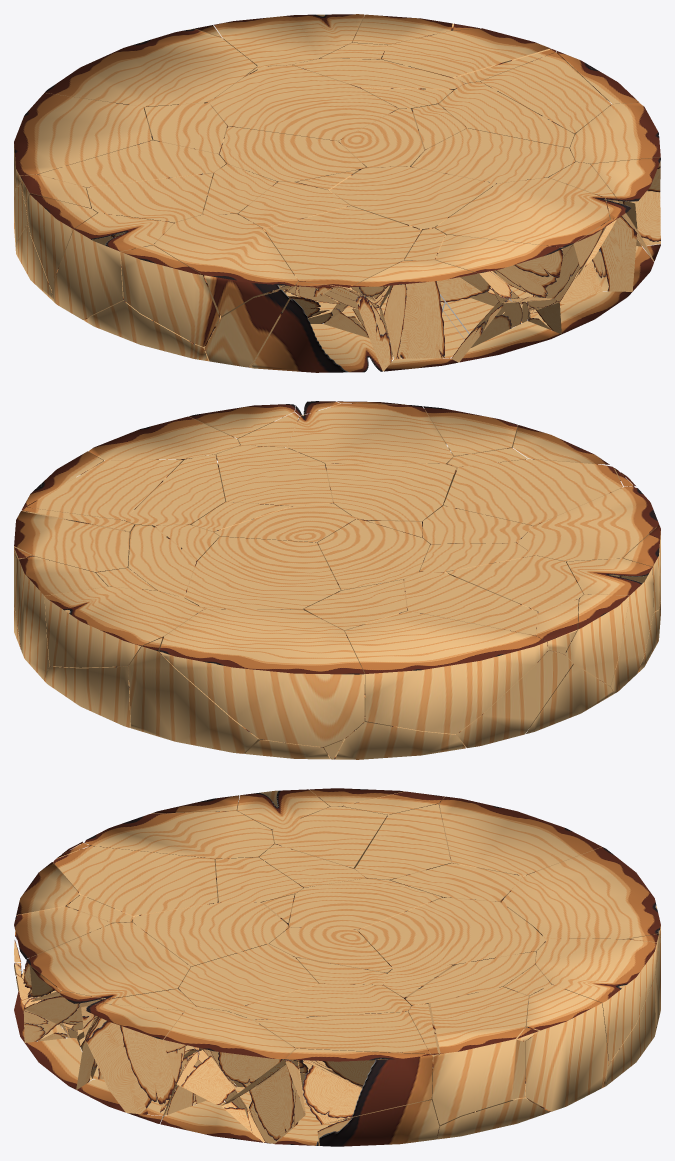
Rendered from Timur_polomannaya.dae.
The picture shows the model from 3 angles, top to bottom: view 1: azimuth 30°, elevation 25°; view 2: azimuth 150°, elevation 25°; view 3: azimuth 270°, elevation 25°; orthographic projection.
Parts seen in each view (by area): view 1: Circle_cell.028, Circle_cell.018, Circle_cell.069, Circle_cell.049, Circle_cell.022, Circle_cell.044, Circle_cell.042, Circle_cell.013, Circle_cell.012, Circle_cell.046, Circle_cell.047, Circle_cell.050 (+33 smaller); view 2: Circle_cell.028, Circle_cell.013, Circle_cell.035, Circle_cell.069, Circle_cell.022, Circle_cell.018, Circle_cell.003, Circle_cell.044, Circle_cell.046, Circle_cell.050, Circle_cell.061, Circle_cell.052 (+32 smaller); view 3: Circle_cell.010, Circle_cell.028, Circle_cell.069, Circle_cell.018, Circle_cell.039, Circle_cell.022, Circle_cell.035, Circle_cell.057, Circle_cell.013, Circle_cell.030, Circle_cell.040, Circle_cell.044 (+35 smaller).
Part boxes in pixels (x1=…): Circle_cell.028: x1=44, y1=28, x2=256, y2=138; Circle_cell.018: x1=435, y1=177, x2=609, y2=310; Circle_cell.069: x1=209, y1=65, x2=398, y2=182; Circle_cell.049: x1=351, y1=260, x2=503, y2=371; Circle_cell.022: x1=264, y1=206, x2=421, y2=308; Circle_cell.044: x1=154, y1=214, x2=297, y2=330; Circle_cell.042: x1=248, y1=281, x2=393, y2=372; Circle_cell.013: x1=14, y1=93, x2=152, y2=196; Circle_cell.012: x1=51, y1=213, x2=174, y2=319; Circle_cell.046: x1=330, y1=166, x2=495, y2=244; Circle_cell.047: x1=120, y1=245, x2=219, y2=346; Circle_cell.050: x1=410, y1=128, x2=575, y2=183; Circle_cell.028: x1=159, y1=609, x2=364, y2=747; Circle_cell.013: x1=345, y1=611, x2=547, y2=734; Circle_cell.035: x1=44, y1=586, x2=202, y2=667; Circle_cell.069: x1=184, y1=536, x2=340, y2=613; Circle_cell.022: x1=439, y1=459, x2=622, y2=543; Circle_cell.018: x1=287, y1=404, x2=453, y2=525; Circle_cell.003: x1=128, y1=637, x2=262, y2=753; Circle_cell.044: x1=517, y1=486, x2=659, y2=599; Circle_cell.046: x1=325, y1=463, x2=455, y2=520; Circle_cell.050: x1=216, y1=445, x2=333, y2=506; Circle_cell.061: x1=317, y1=519, x2=430, y2=635; Circle_cell.052: x1=26, y1=459, x2=182, y2=571; Circle_cell.010: x1=420, y1=986, x2=528, y2=1127; Circle_cell.028: x1=501, y1=847, x2=660, y2=941; Circle_cell.069: x1=358, y1=897, x2=545, y2=1012; Circle_cell.018: x1=22, y1=922, x2=190, y2=1031; Circle_cell.039: x1=525, y1=984, x2=608, y2=1111; Circle_cell.022: x1=53, y1=846, x2=217, y2=922; Circle_cell.035: x1=535, y1=938, x2=656, y2=1063; Circle_cell.057: x1=285, y1=1048, x2=432, y2=1122; Circle_cell.013: x1=439, y1=796, x2=601, y2=898; Circle_cell.030: x1=164, y1=1006, x2=295, y2=1105; Circle_cell.040: x1=82, y1=1003, x2=184, y2=1123; Circle_cell.044: x1=84, y1=811, x2=274, y2=902.
Bounding box in the file's own units: 2 × 2 × 0.2904.
Materials: 1 (1 with a texture image).
